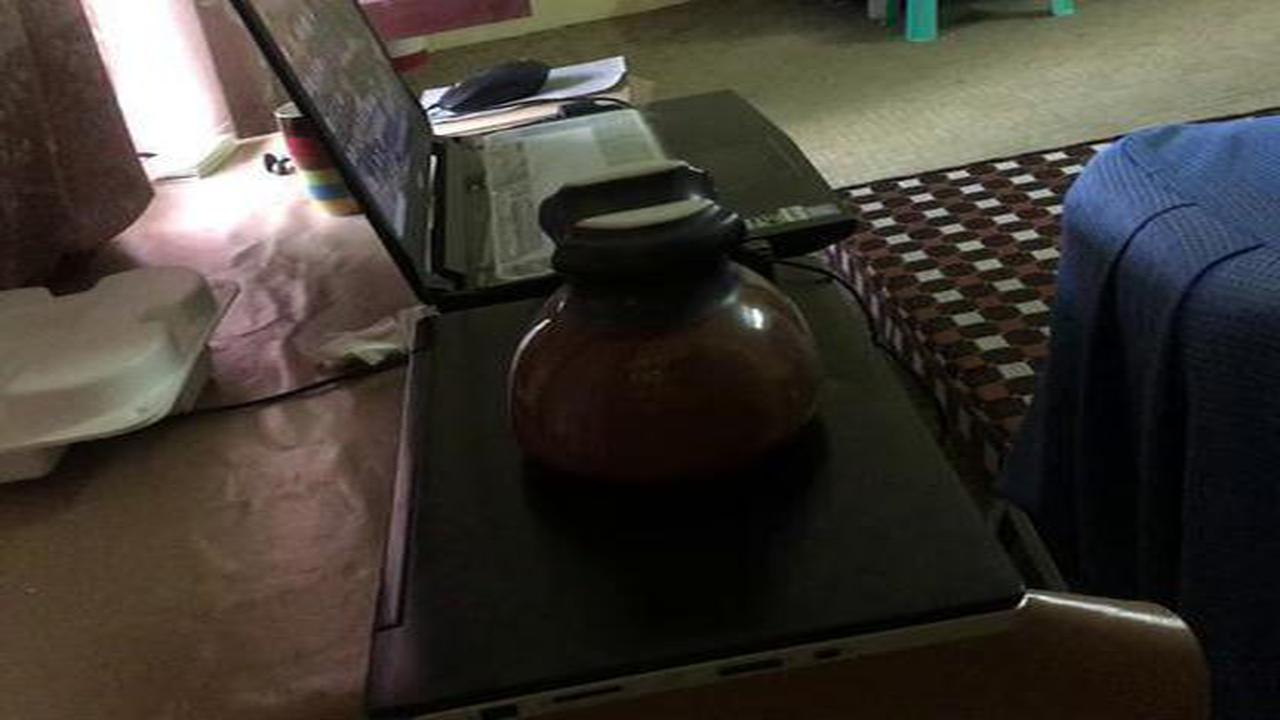insulator_pin: (487, 158, 844, 518)
